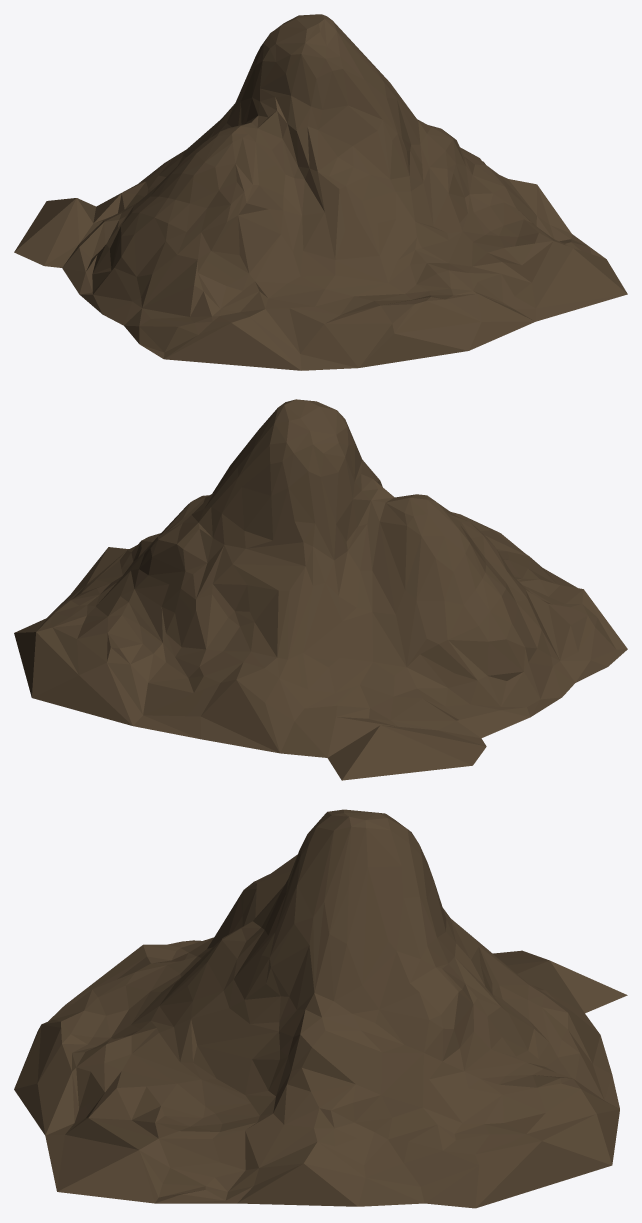
Rendered from SM_Env_Hill_02.gltf.
3 views of the same model, one above another, from view 1: azimuth 30°, elevation 25°; view 2: azimuth 150°, elevation 25°; view 3: azimuth 270°, elevation 25° (orthographic). The views are drawn at different scales.
Visible parts, largest first — view 1: SM_Env_Hill_02; view 2: SM_Env_Hill_02; view 3: SM_Env_Hill_02.
Part boxes in pixels (x1=…): SM_Env_Hill_02: x1=14, y1=14, x2=627, y2=370; SM_Env_Hill_02: x1=14, y1=399, x2=627, y2=780; SM_Env_Hill_02: x1=14, y1=809, x2=627, y2=1208.
Bounding box in the file's own units: 11.14 × 5.48 × 11.21.
1 material, 1 textured.
